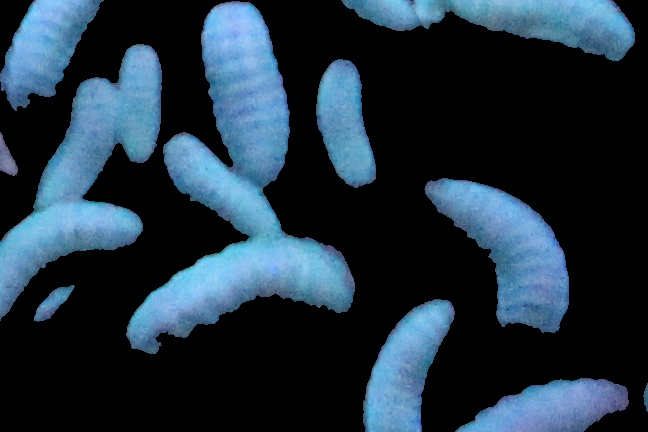larvae: (129, 233, 358, 350), (422, 174, 569, 330), (1, 204, 141, 329), (205, 1, 289, 201), (164, 133, 279, 243), (1, 1, 108, 109), (372, 293, 454, 432), (448, 1, 635, 61), (31, 79, 114, 212), (453, 372, 628, 432), (318, 56, 376, 191), (119, 44, 160, 163)
